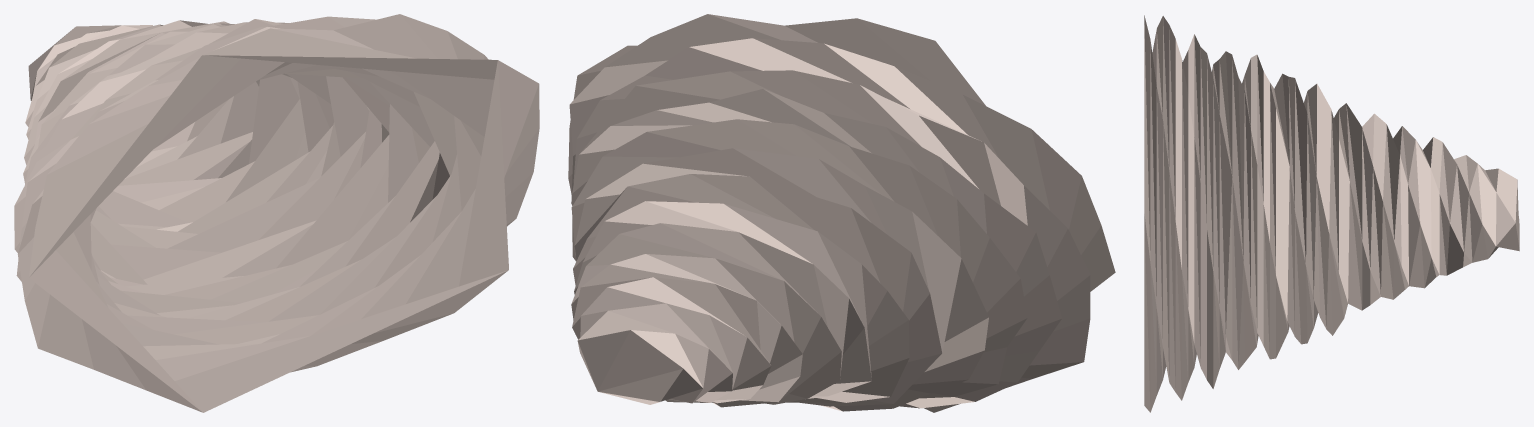
The model's file is 45-Arte3D_concha_mar.glb.
3 renders of one model, left to right at view 1: azimuth 30°, elevation 25°; view 2: azimuth 150°, elevation 25°; view 3: azimuth 270°, elevation 25°, orthographic. The views are drawn at different scales.
Visible parts, largest first — view 1: SM_Concha_M_Concha_Mar; view 2: SM_Concha_M_Concha_Mar; view 3: SM_Concha_M_Concha_Mar.
Boxes of the visible parts, left/top/right/bottom form: SM_Concha_M_Concha_Mar: left=14, top=14, right=539, bottom=412; SM_Concha_M_Concha_Mar: left=568, top=14, right=1115, bottom=412; SM_Concha_M_Concha_Mar: left=1144, top=15, right=1519, bottom=412.
Bounding box in the file's own units: 0.424 × 0.2854 × 0.2989.
